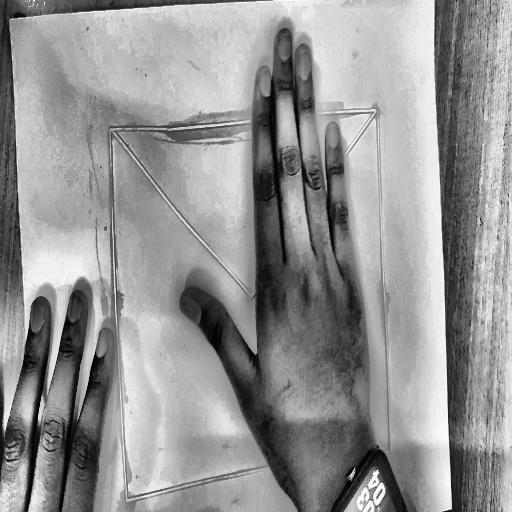bottom_right: (449, 503, 454, 512)
envelop: (100, 100, 403, 509)
top_left: (6, 15, 12, 25)
